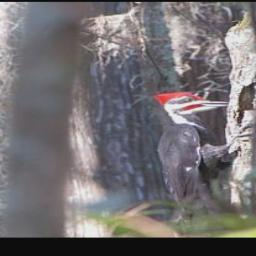Woodpecker: (150, 91, 256, 229)
